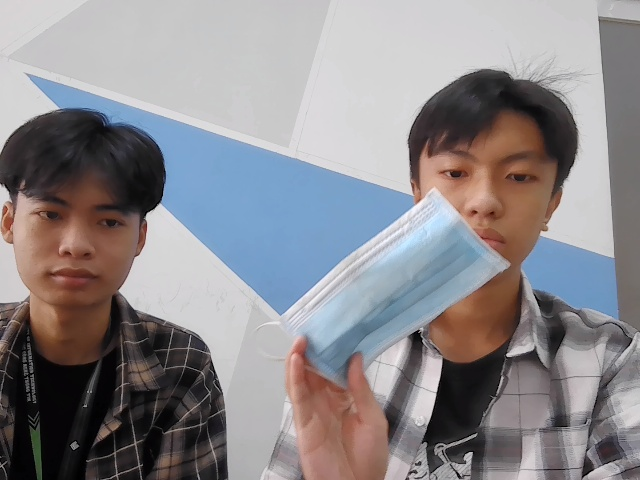human: (3, 94, 178, 312), (406, 52, 571, 271)
mask: (267, 192, 510, 369)
